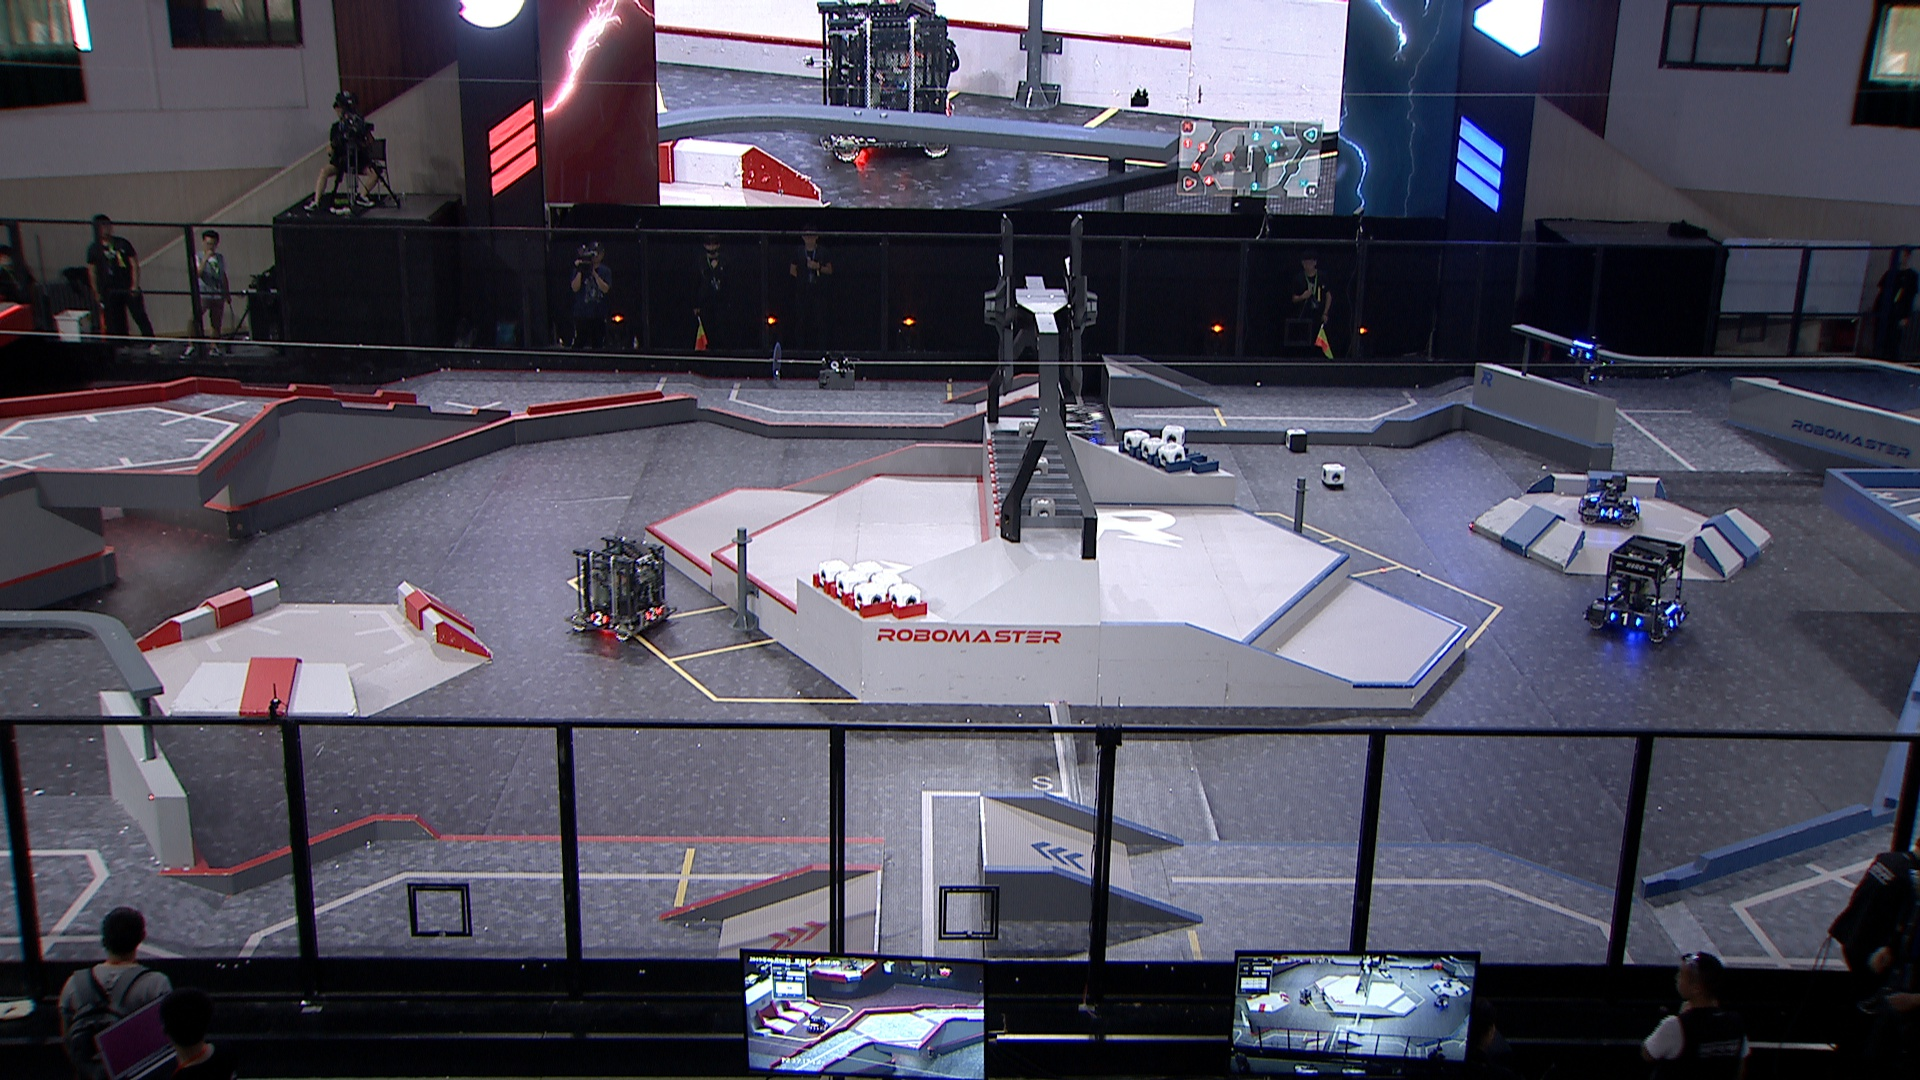armor: (1609, 611, 1644, 628), (585, 609, 609, 628), (644, 605, 665, 622), (1569, 347, 1590, 361), (1665, 613, 1687, 628), (1598, 505, 1619, 520)
car: (1584, 531, 1693, 645), (566, 535, 679, 641), (1029, 404, 1105, 475), (1577, 472, 1640, 529)
ignore: (803, 0, 960, 162)
watcher: (1567, 334, 1614, 386)
